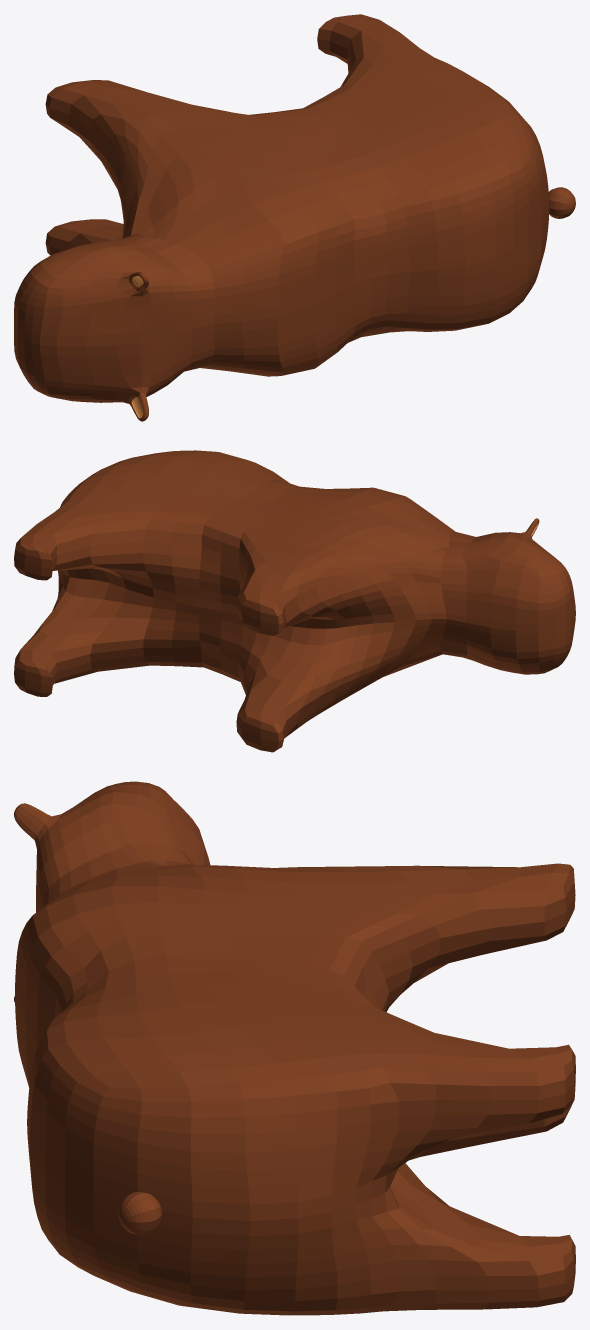
File: Bear1.fbx
3 views of the same model, one above another, from view 1: azimuth 30°, elevation 25°; view 2: azimuth 150°, elevation 25°; view 3: azimuth 270°, elevation 25° (orthographic). The views are drawn at different scales.
Parts seen in each view (by area): view 1: 구체; view 2: 구체; view 3: 구체.
Part boxes in pixels (x1,y1,x2,y2): 구체: [14, 14, 575, 421]; 구체: [14, 450, 575, 752]; 구체: [14, 781, 575, 1315].
Bounding box in the file's own units: 419 × 135 × 269.
